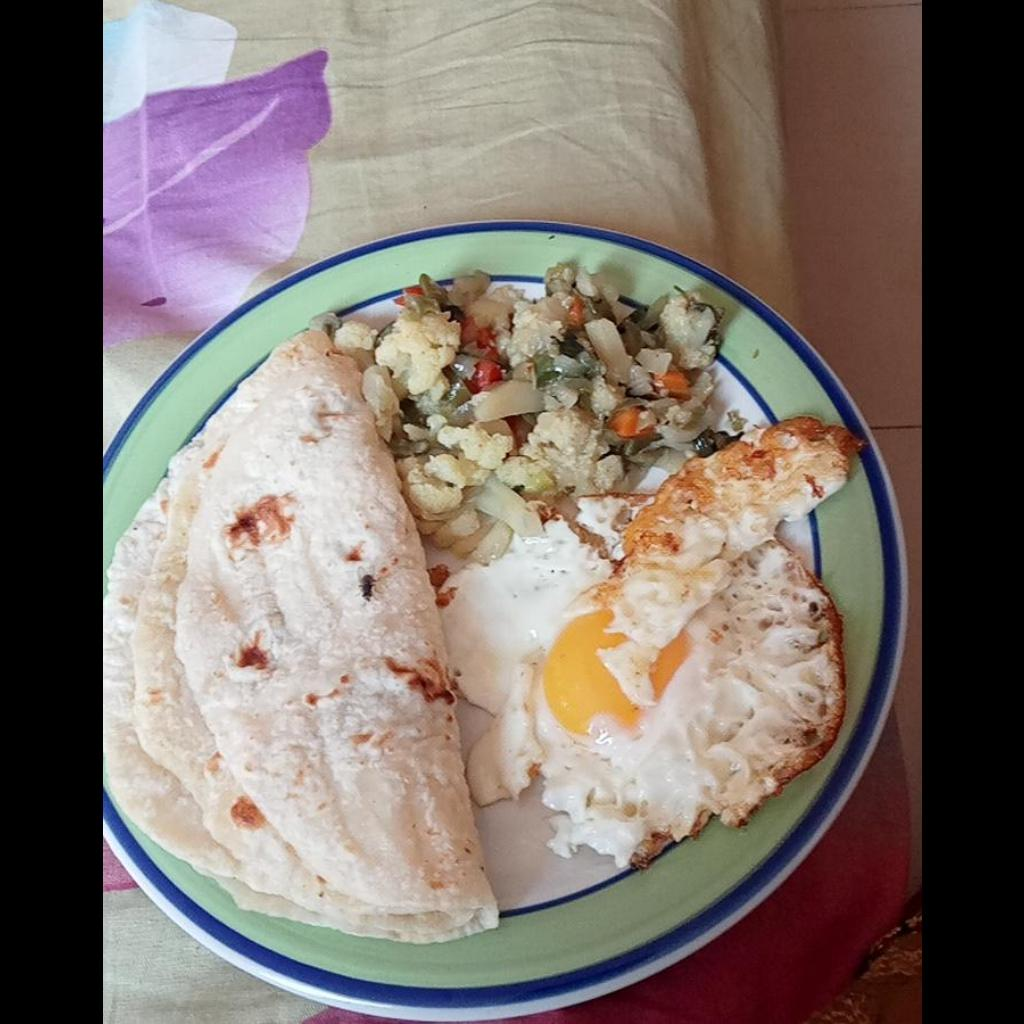egg-poached: (451, 420, 861, 878)
ruti: (102, 327, 497, 949)
vegetable: (343, 265, 733, 563)
